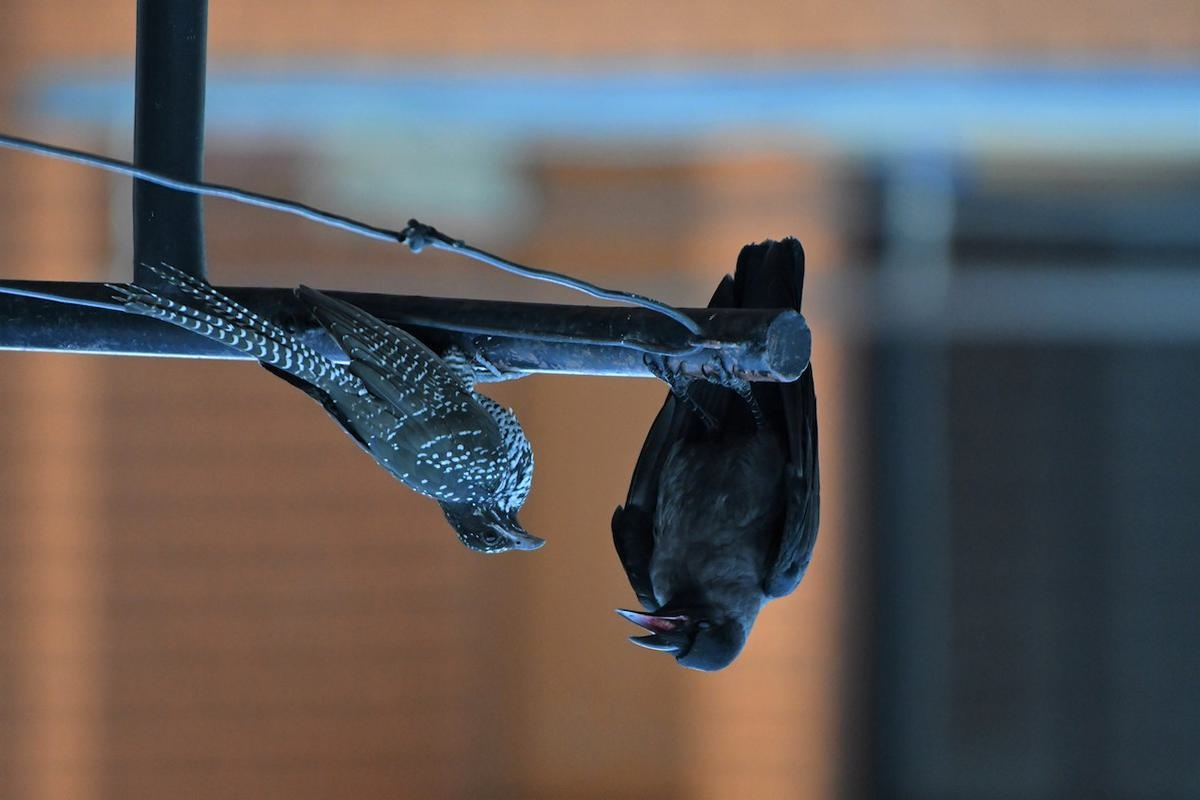crow: (603, 225, 834, 678)
